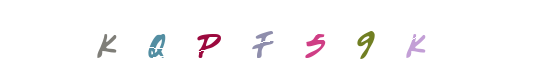5: (263, 0, 343, 80)
9: (274, 0, 354, 80)
F: (238, 0, 318, 80)
K: (116, 0, 196, 80), (326, 0, 406, 80)
P: (168, 0, 248, 80)
Q: (160, 0, 240, 80)
